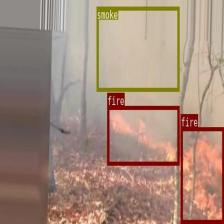fire: (107, 105, 179, 165), (180, 127, 224, 223)
smoke: (96, 6, 178, 91)
